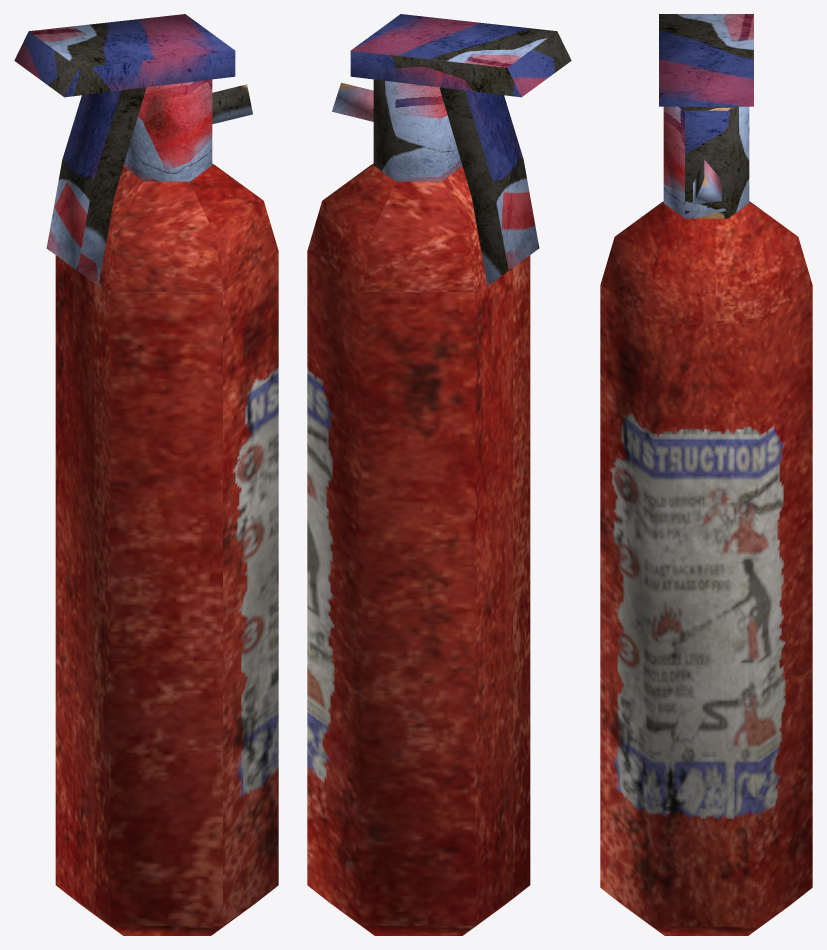
File: fireEXtinguisher.fbx
The picture shows the model from 3 angles, left to right: view 1: azimuth 30°, elevation 25°; view 2: azimuth 150°, elevation 25°; view 3: azimuth 270°, elevation 25°; orthographic projection. The views are drawn at different scales.
Visible parts, largest first — view 1: Sphere, Plane, Plane.001, Sphere.001; view 2: Sphere, Plane, Plane.001, Sphere.001; view 3: Sphere, Sphere.001, Plane.
Part boxes in pixels (x1=…): Sphere: x1=55, y1=163, x2=278, y2=935; Plane: x1=14, y1=14, x2=235, y2=97; Plane.001: x1=46, y1=87, x2=146, y2=285; Sphere.001: x1=123, y1=79, x2=252, y2=181; Sphere: x1=307, y1=163, x2=530, y2=935; Plane: x1=350, y1=14, x2=571, y2=97; Plane.001: x1=439, y1=87, x2=539, y2=285; Sphere.001: x1=332, y1=79, x2=462, y2=181; Sphere: x1=600, y1=201, x2=812, y2=935; Sphere.001: x1=663, y1=106, x2=749, y2=218; Plane: x1=659, y1=14, x2=753, y2=106.
Bounding box in the file's own units: 270 × 1076 × 247.
